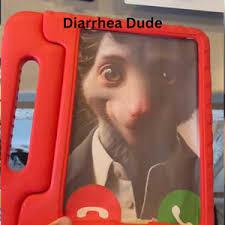mouse-pay: (78, 30, 199, 223)
